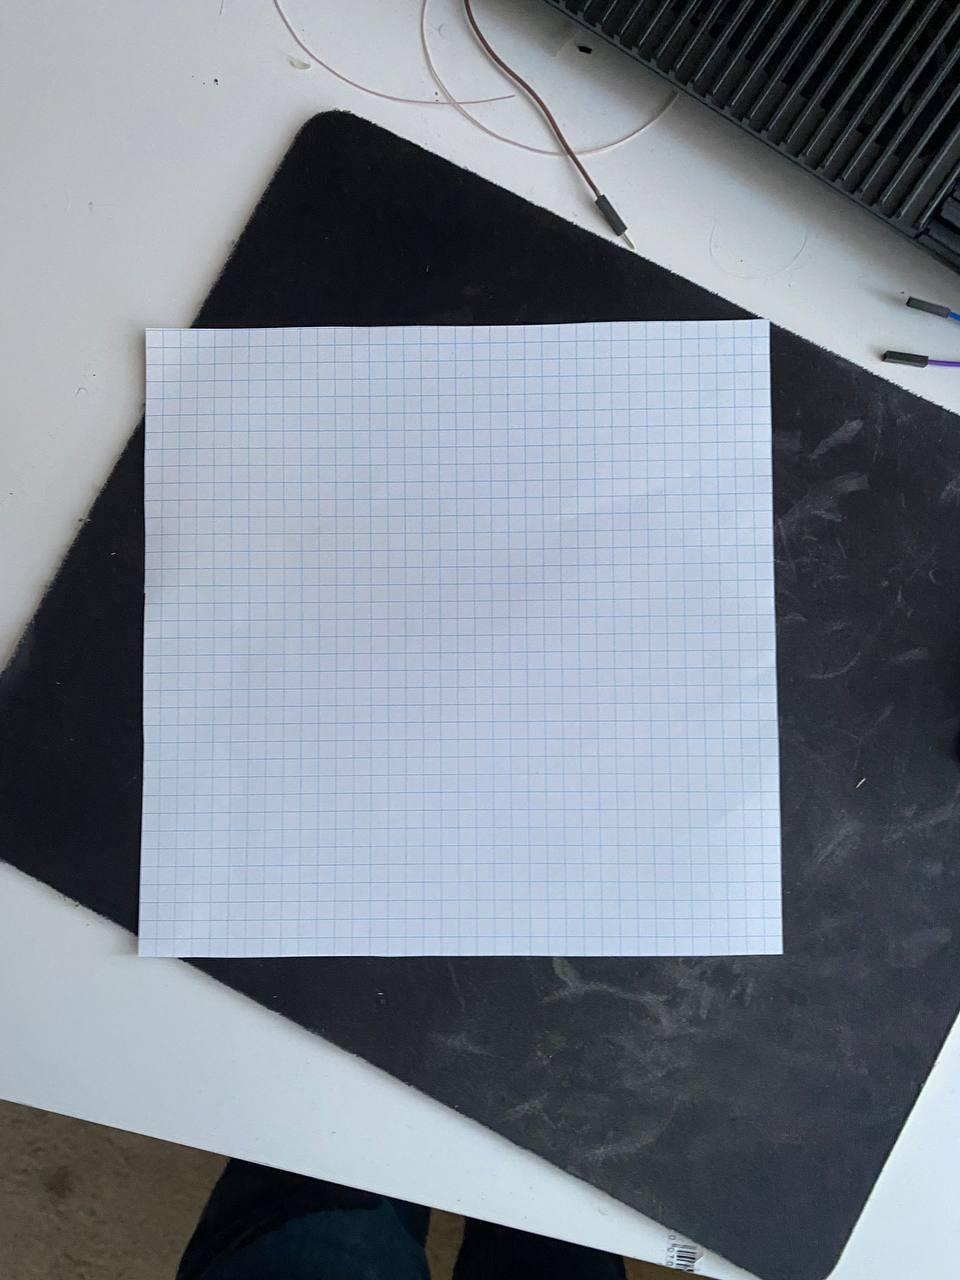grid: (112, 292, 794, 974)
